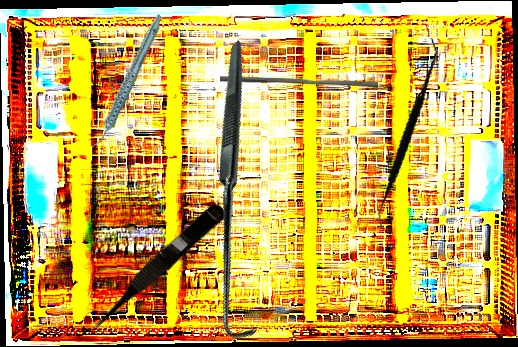Handpiece: (65, 12, 188, 151)
Hook Surgical: (87, 39, 394, 347)
Micro Scissor: (78, 196, 230, 340)
Pusher: (220, 76, 378, 88)
Spatula Surgical: (338, 37, 475, 229)
